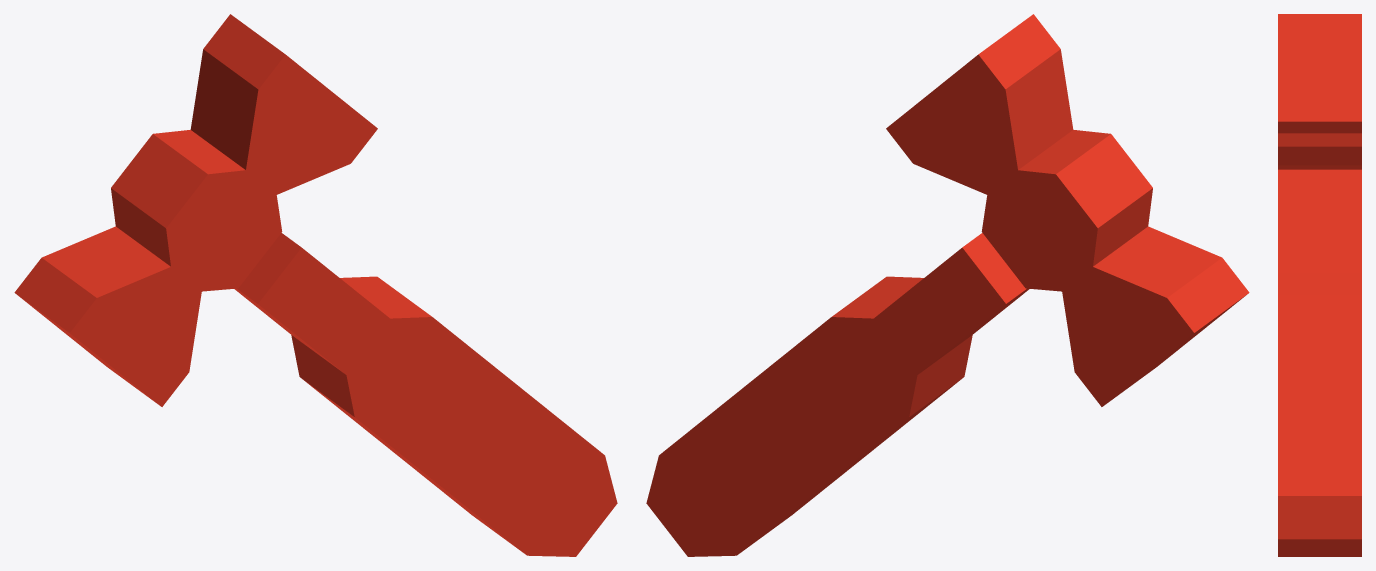
The model's file is Icon_Repair_05.fbx.
3 renders of one model, left to right at view 1: azimuth 30°, elevation 25°; view 2: azimuth 150°, elevation 25°; view 3: azimuth 270°, elevation 25°, orthographic. The views are drawn at different scales.
Parts seen in each view (by area): view 1: Icon_Repair_05; view 2: Icon_Repair_05; view 3: Icon_Repair_05.
Boxes of the visible parts, box(x1,y1,x2,y2) form: Icon_Repair_05: box(14, 14, 617, 556); Icon_Repair_05: box(646, 14, 1249, 556); Icon_Repair_05: box(1278, 14, 1361, 556).
Size of the model in its own units: 69.06 by 69.06 by 12.06.
